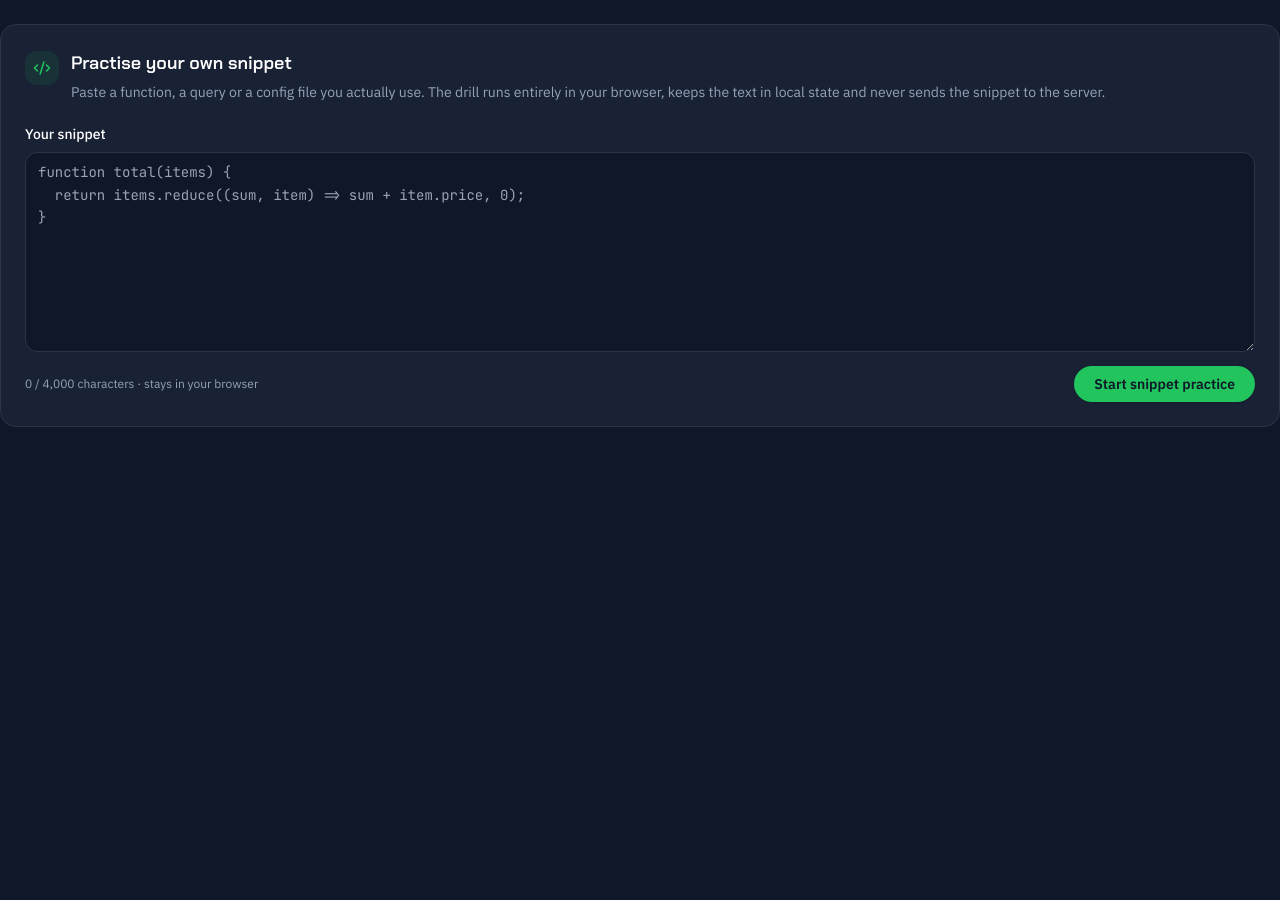
Test case: CustomCodePractice › keeps the editor local and mounts the typing drill only after start
Replace the text in the text box with test id "custom-code-practice-input" with "const total = items.reduce((sum, item) => sum + item.price, 0);" at (640, 252), box [25,152,1255,352]
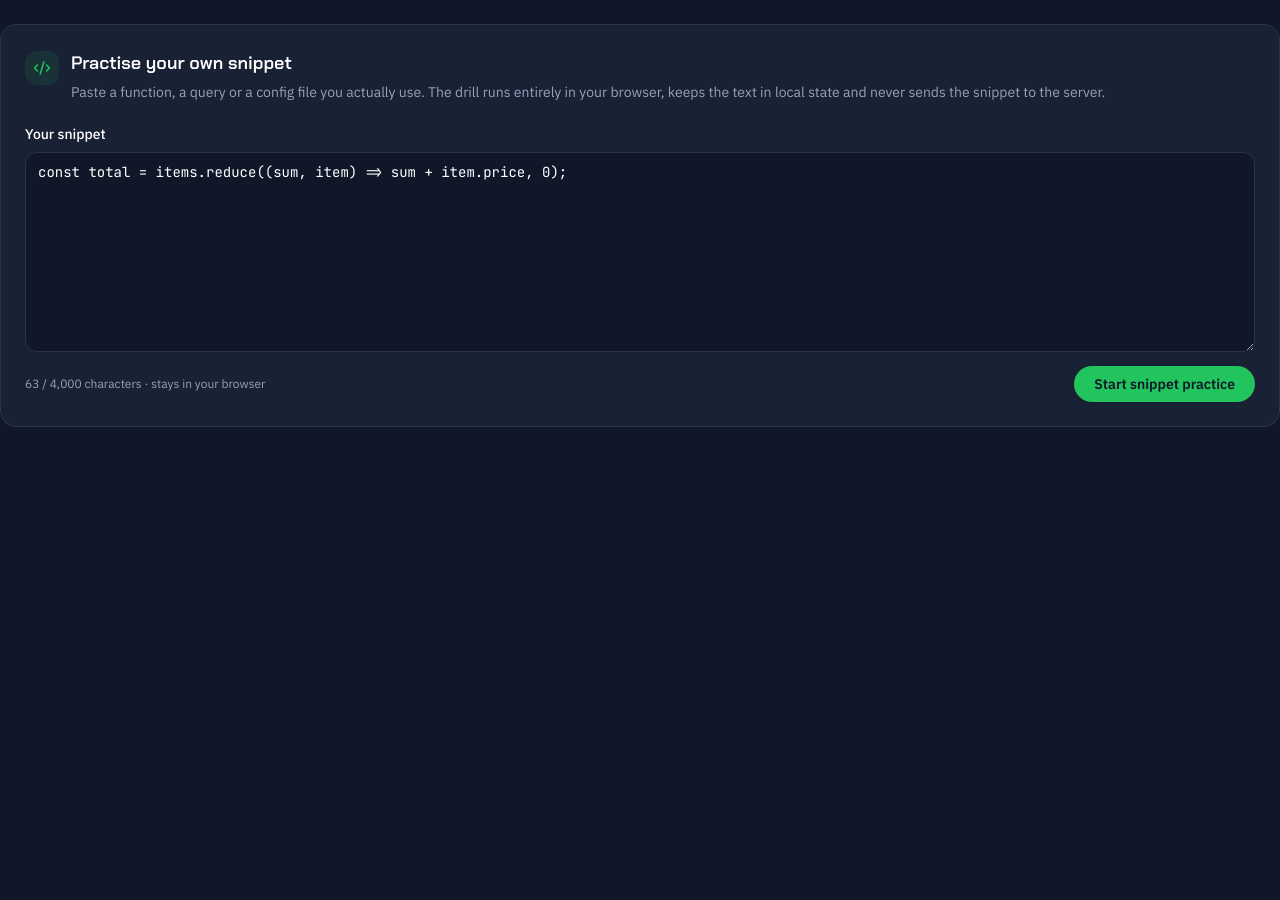
Expected: the element with test id "custom-code-practice" shows "stays in your browser", [82,376,266,391]
Click the button with test id "custom-code-practice-start" at (1165, 384), box [1074,366,1255,402]
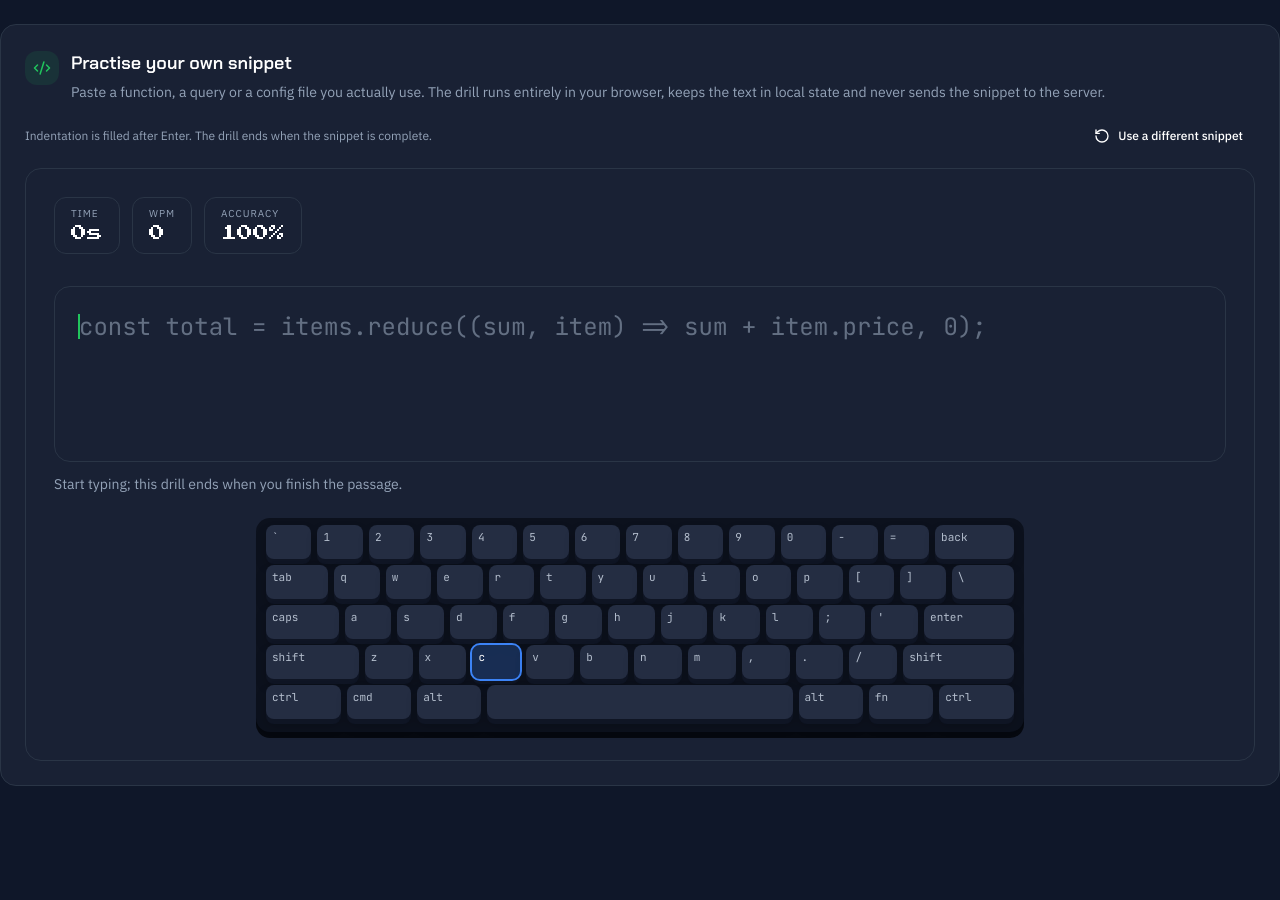
Result: the element with test id "custom-code-practice-typing" is shown
